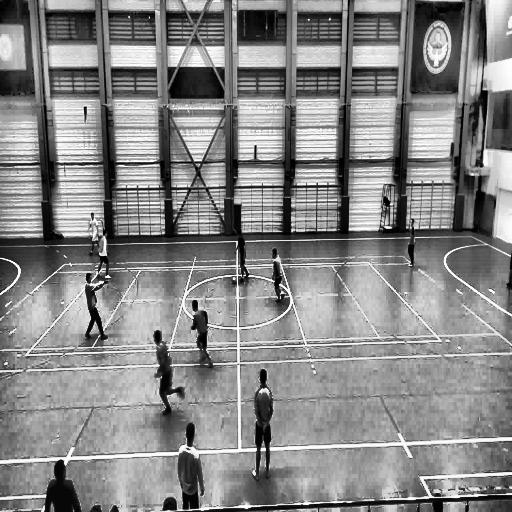ball: (232, 276, 236, 283)
player: (155, 329, 186, 414), (178, 422, 205, 510), (253, 369, 273, 482), (84, 272, 109, 341), (192, 299, 213, 368), (272, 248, 286, 304), (97, 230, 112, 280), (238, 231, 249, 282), (88, 212, 99, 256), (406, 220, 414, 266)
